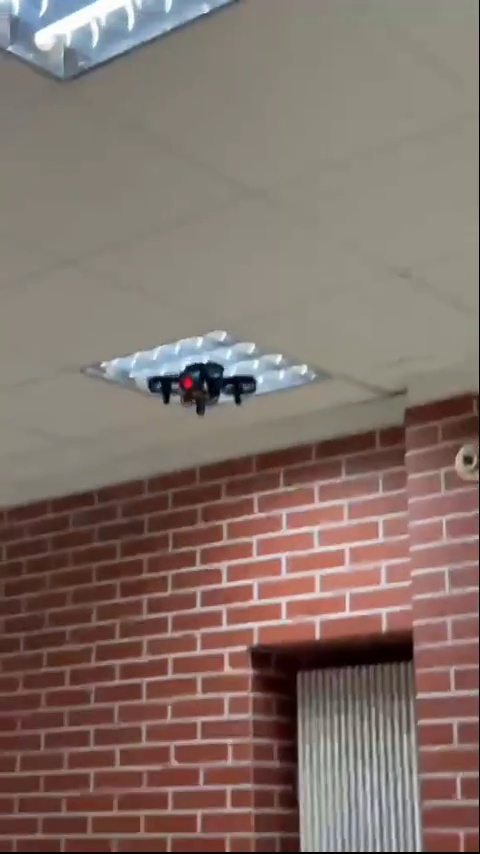drone: (149, 364, 256, 417)
